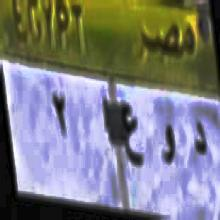2: (52, 84, 70, 146)
ain: (120, 98, 144, 176)
daal: (191, 112, 210, 167)
waw: (158, 115, 179, 173)
